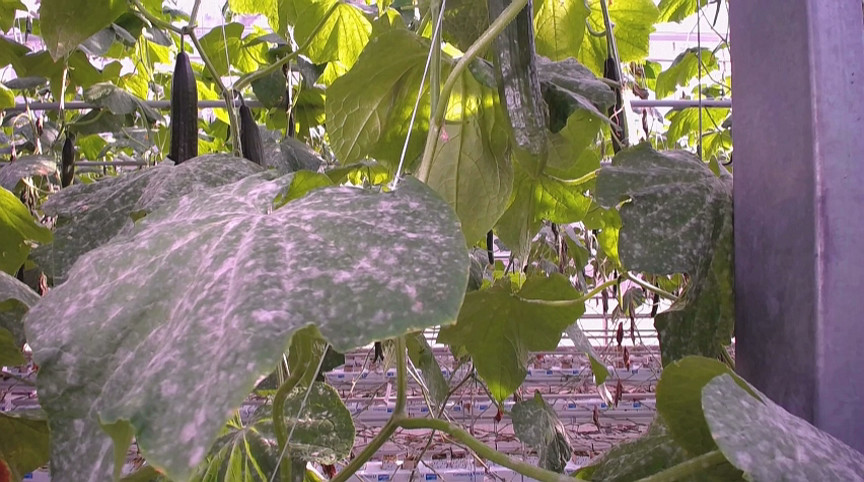cucumber: (487, 1, 548, 182), (167, 52, 201, 164), (239, 105, 269, 168), (59, 138, 77, 189)
